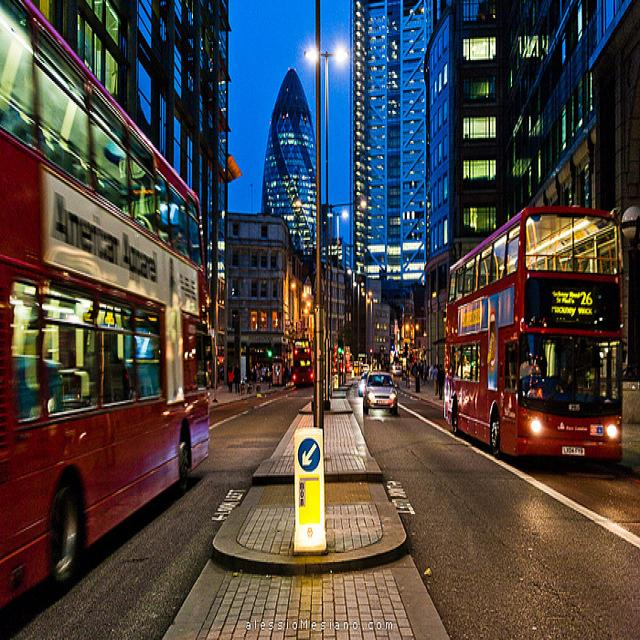Vehicle: (0, 3, 210, 619), (443, 205, 628, 460), (13, 357, 62, 417), (363, 371, 398, 415), (290, 338, 314, 387), (357, 372, 367, 397), (394, 366, 402, 376)
